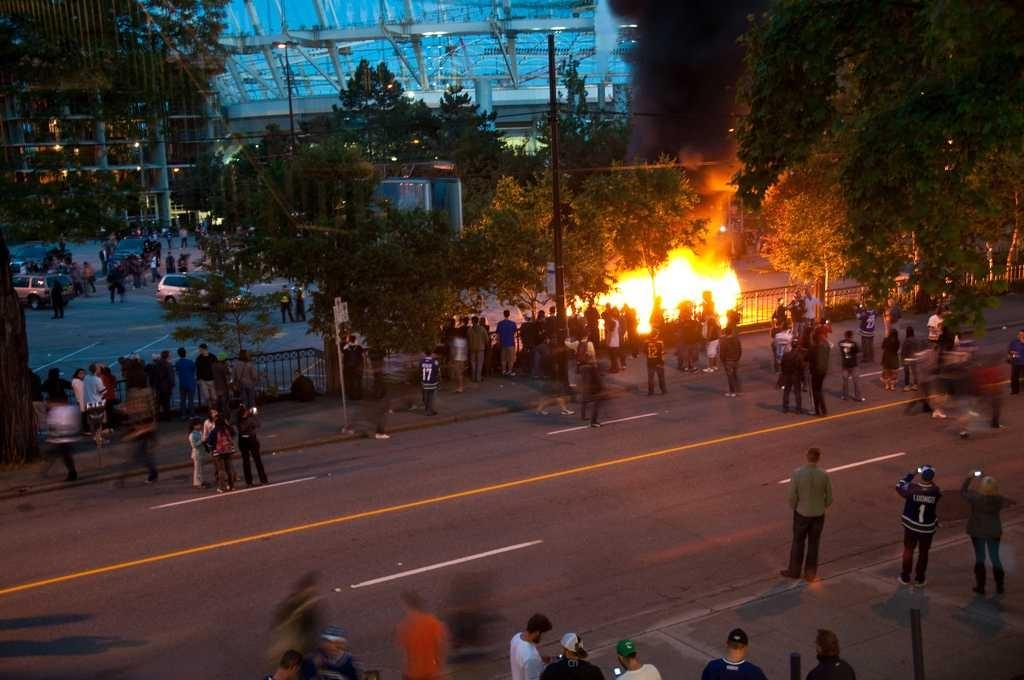fire: (622, 270, 733, 303)
